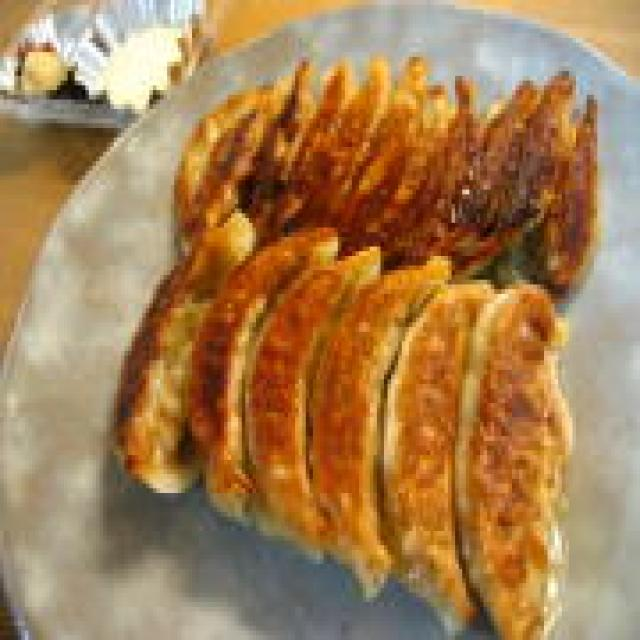带馅早点: (110, 28, 615, 640)
